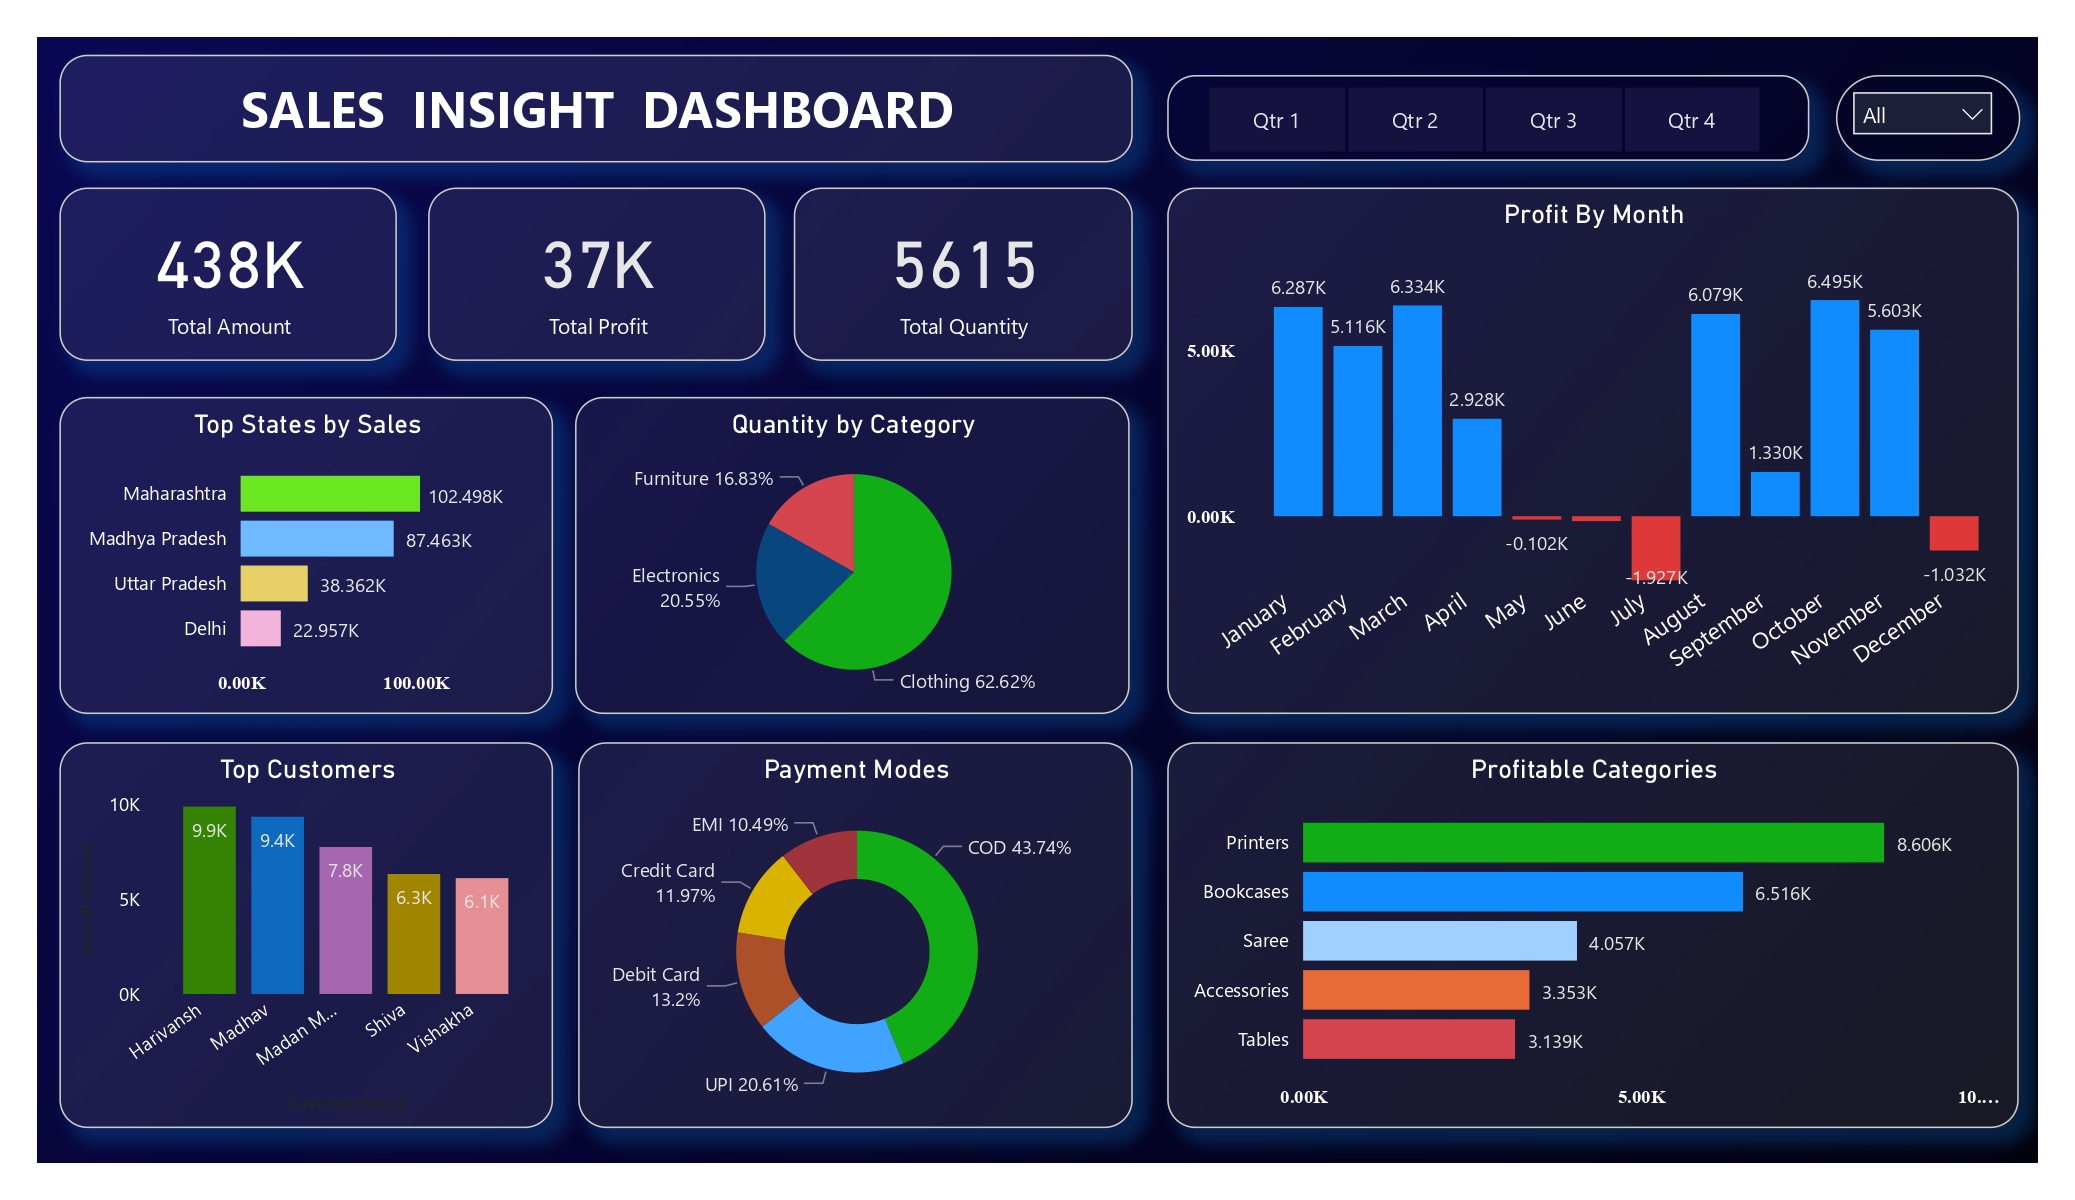

The dashboard page shown, as its layout file describes it:
{"tool":"powerbi","page":{"name":"Page 1","canvas":[1280,720],"ordinal":0},"visuals":[{"type":"textbox","box":[13.7,11,686.9,68.6],"z":0},{"type":"columnChart","title":"Profit By Month","fields":{"Category":["Orders.Order Date.Variation.Date Hierarchy.Month"],"Y":["general.Profit"]},"box":[722.5,96,545.7,337.3],"z":1000},{"type":"barChart","title":"Profitable Categories","fields":{"Category":["general.Sub-Category"],"Y":["general.Profit"]},"box":[722.5,451.1,545.7,246.8],"z":2000},{"type":"pieChart","title":"Quantity by Category","fields":{"Category":["general.Category"],"Y":["general.Quantity"]},"box":[344.1,230.3,355.1,202.9],"z":3000},{"type":"donutChart","title":"Payment Modes","fields":{"Y":["general.Quantity"],"Category":["general.PaymentMode"]},"box":[345.5,451.1,355.1,246.8],"z":4000},{"type":"cardVisual","title":"DDD","fields":{"Data":["general.Amount"]},"box":[13.7,96,216.6,111.1],"z":5000},{"type":"cardVisual","title":"DDD","fields":{"Data":["general.Profit"]},"box":[249.5,96,216.6,111.1],"z":6000},{"type":"cardVisual","fields":{"Data":["general.Quantity"]},"box":[484,96,216.6,111.1],"z":7000},{"type":"barChart","title":"Top States by Sales","fields":{"Category":["Orders.State"],"Y":["general.Amount"]},"box":[13.7,230.3,316.7,202.9],"z":8000},{"type":"columnChart","title":"Top Customers","fields":{"Category":["Orders.CustomerName"],"Y":["general.Amount"]},"box":[13.7,451.1,316.7,246.8],"z":9000},{"type":"slicer","fields":{"Values":["Orders.Order Date.Variation.Date Hierarchy.Quarter"]},"box":[722.7,24.4,411.3,54.6],"z":10000},{"type":"slicer","fields":{"Values":["Orders.State"]},"box":[1151.5,24.4,117.4,54.6],"z":11000}]}

Visuals, with their boxes on the page's 1280x720 design canvas (x1, y1, x2, y2). These are canvas units, not pixel positions in the 2075x1200 screenshot, which may show the page scaled, cropped or inside an application window:
textbox: 14/11/701/80
"Profit By Month" columnChart: 722/96/1268/433
"Profitable Categories" barChart: 722/451/1268/698
"Quantity by Category" pieChart: 344/230/699/433
"Payment Modes" donutChart: 346/451/701/698
"DDD" cardVisual: 14/96/230/207
"DDD" cardVisual: 250/96/466/207
cardVisual - general.Quantity: 484/96/701/207
"Top States by Sales" barChart: 14/230/330/433
"Top Customers" columnChart: 14/451/330/698
slicer - Orders.Order Date.Variation.Date Hierarchy.Quarter: 723/24/1134/79
slicer - Orders.State: 1152/24/1269/79
